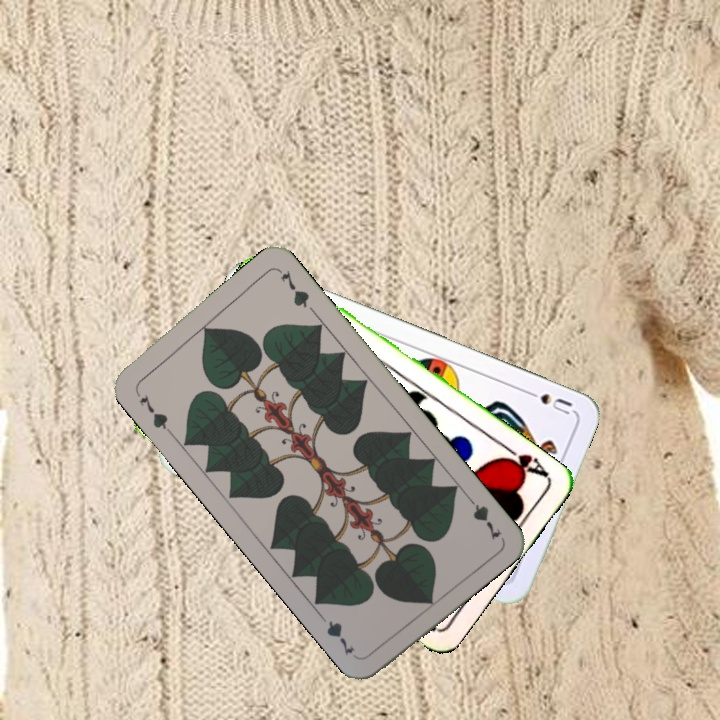G7: (461, 490, 504, 543), (136, 390, 174, 436)
HA: (496, 440, 551, 480)
SU: (519, 385, 575, 418)
